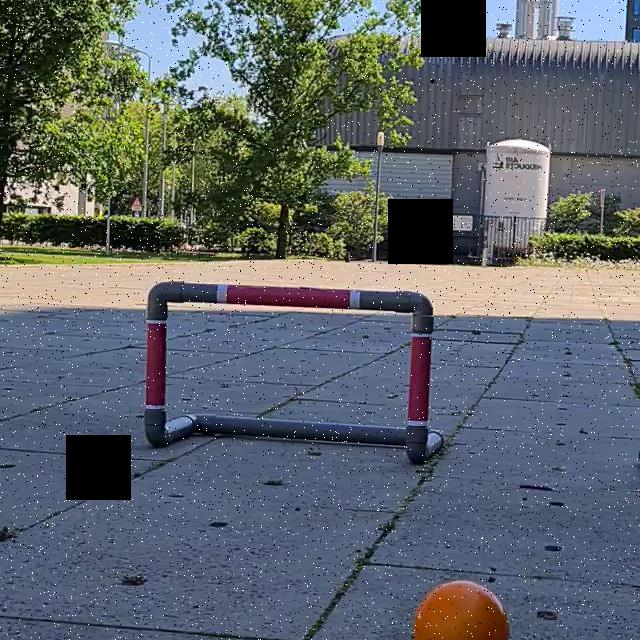ball: (408, 578, 512, 640)
